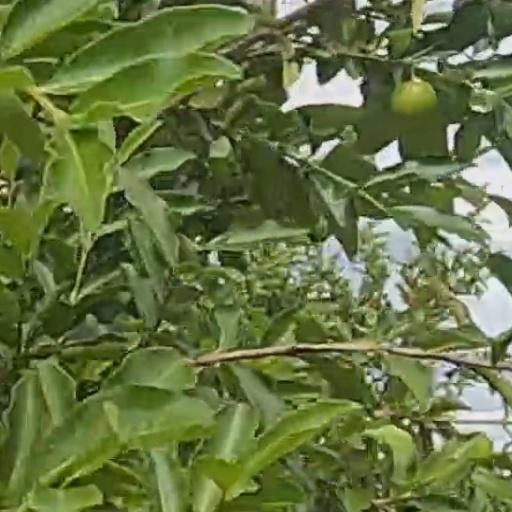acerola: (393, 80, 432, 116)
